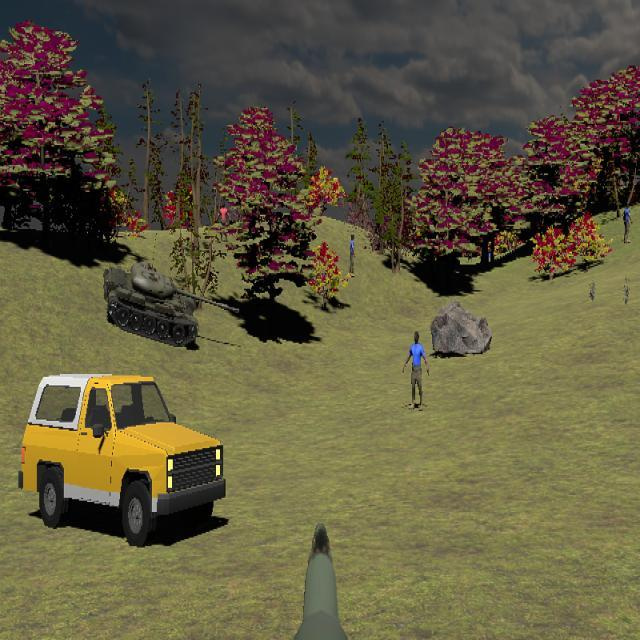Human: (402, 332, 429, 410)
Tank: (104, 263, 240, 349)
car: (19, 373, 227, 547)
